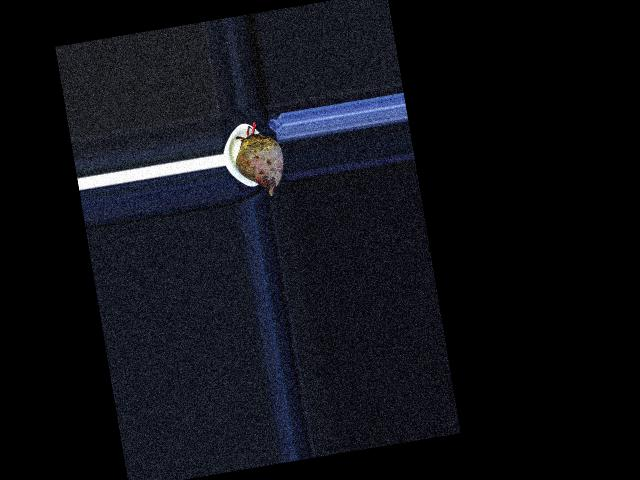beet: (229, 118, 288, 200)
